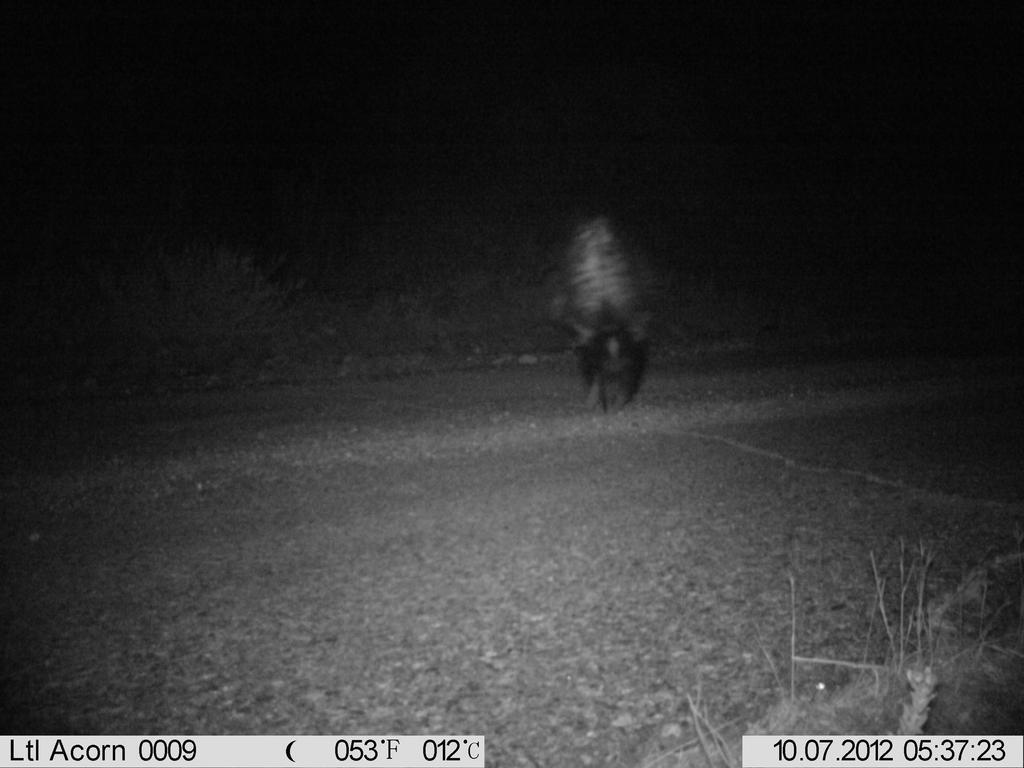skunk: (543, 204, 669, 428)
